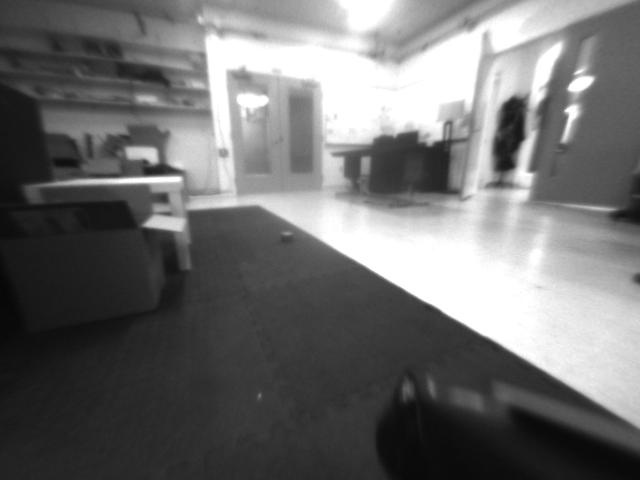dogtoy: (271, 225, 302, 247)
